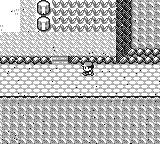captura: (52, 1, 116, 32)
main: (81, 61, 94, 75)
no-caminable: (1, 97, 160, 143), (116, 0, 159, 64), (36, 1, 51, 32)
salto: (1, 56, 50, 64), (68, 56, 115, 64), (69, 56, 115, 63)
